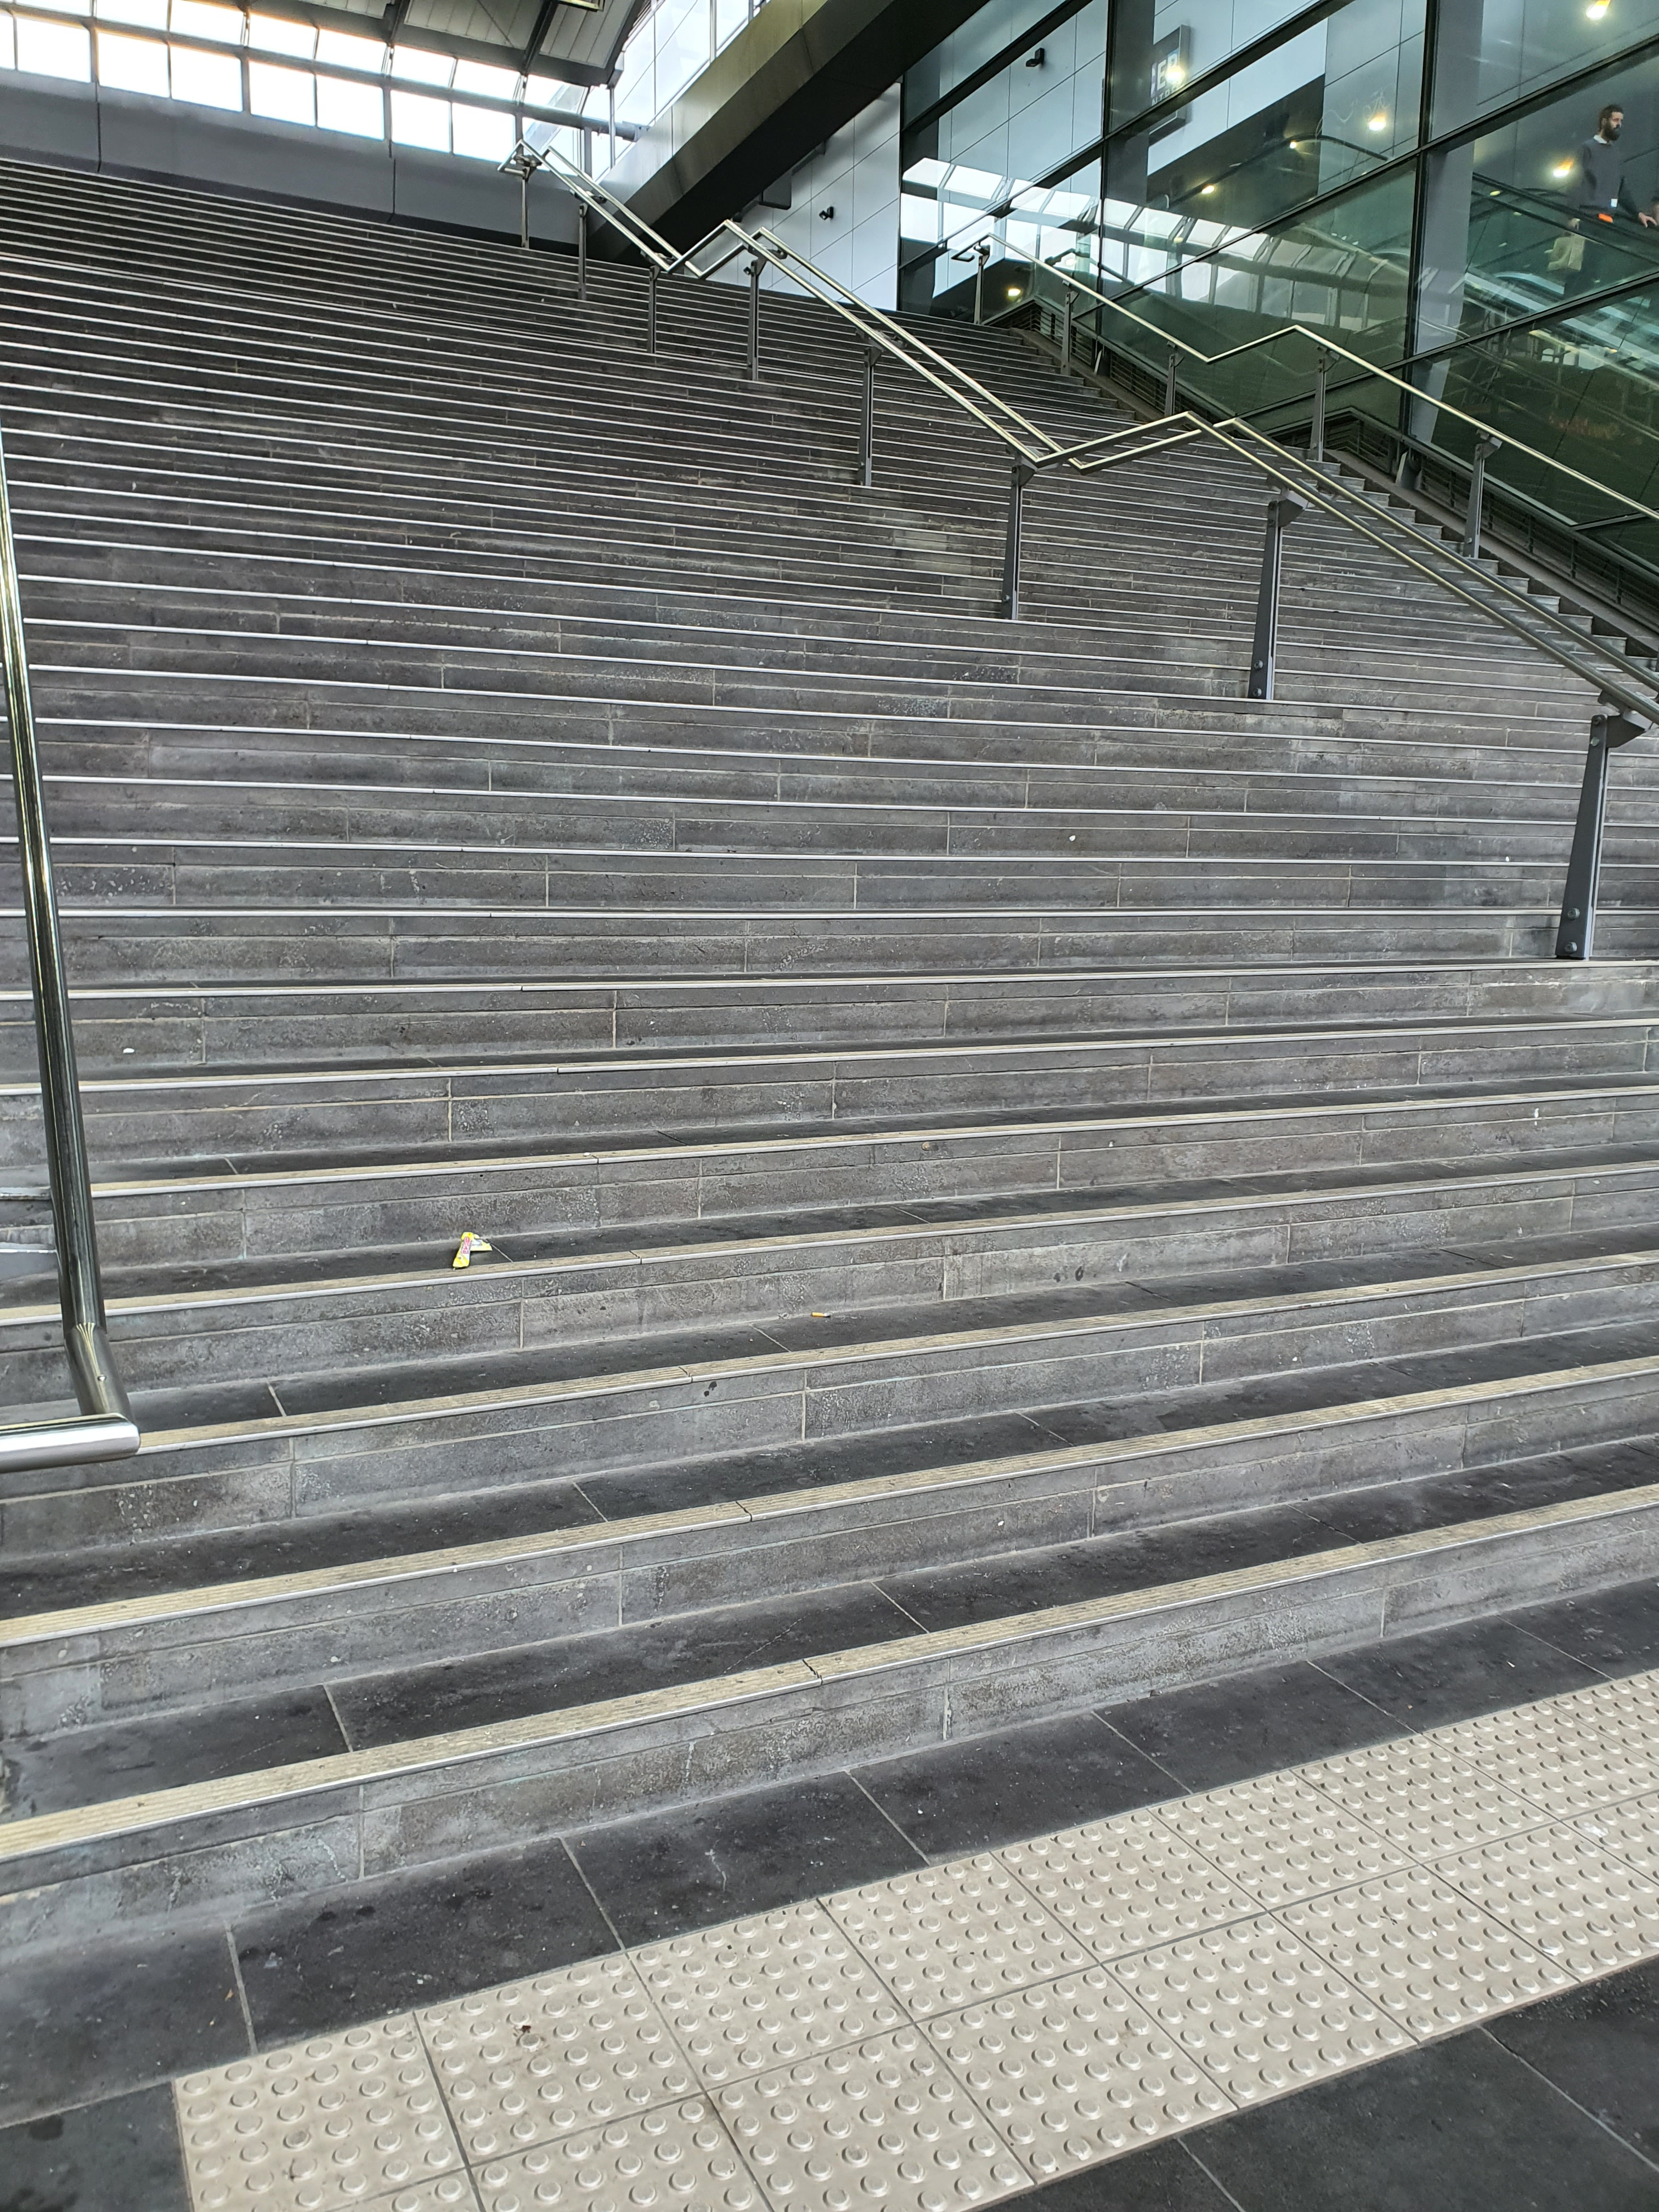upstairs: (185, 1062, 1601, 1952)
